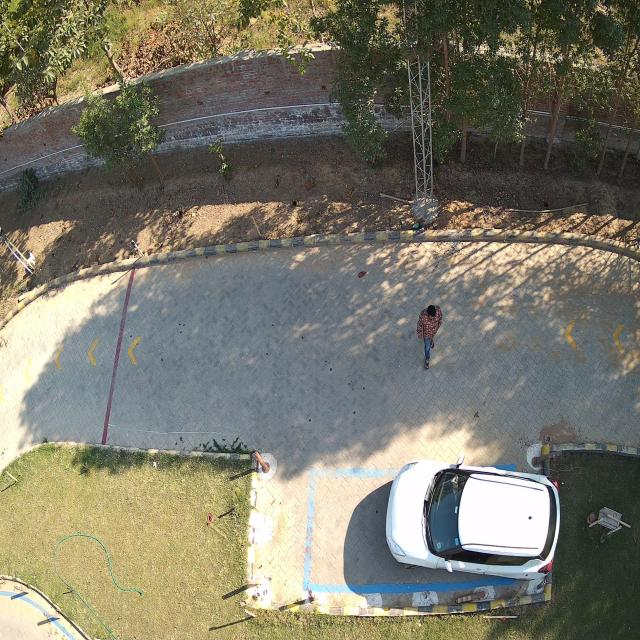car: (385, 460, 560, 580)
